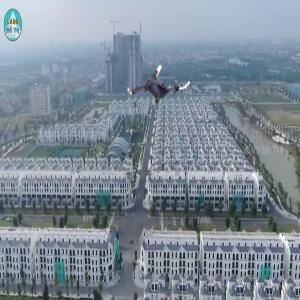drone: (128, 56, 191, 119)
